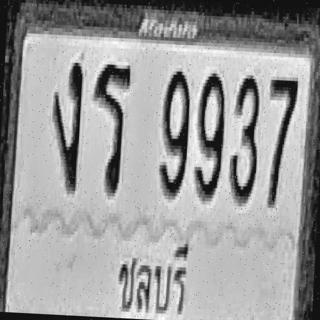A07: (49, 58, 84, 191)
A35: (89, 60, 132, 194)
N03: (228, 71, 261, 204)
N07: (264, 75, 298, 207)
N09: (193, 69, 226, 198), (158, 67, 191, 196)
P13: (113, 230, 194, 320)
